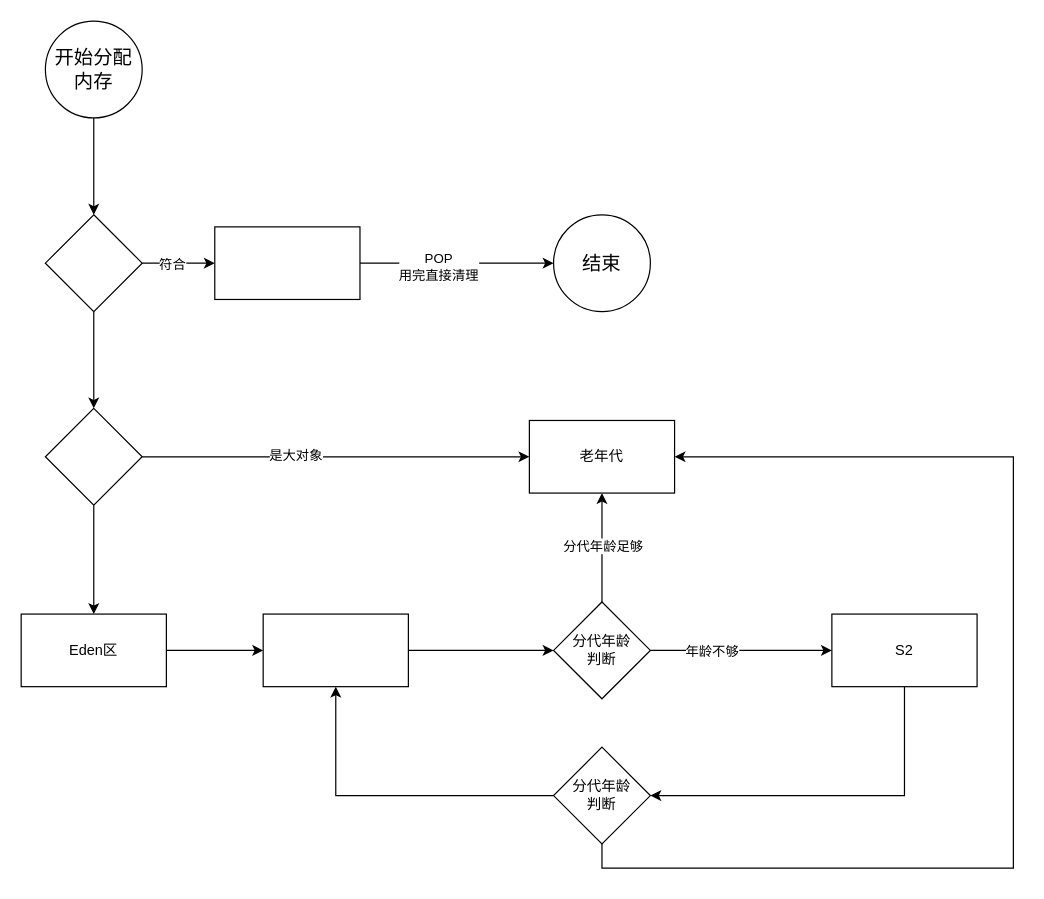
This 1044x899 diagram has some shape labels left out. The shapes that lost their labels are listed below. From the top down, each one's centre as x and y in pixels, then its label:
At point (93, 263): "是否符合 栈内分配 标准".
At point (287, 262): "在线程的栈空间 内 的方法栈帧里 分配内存".
At point (93, 456): "是否是 大对象".
At point (335, 650): "S1".
